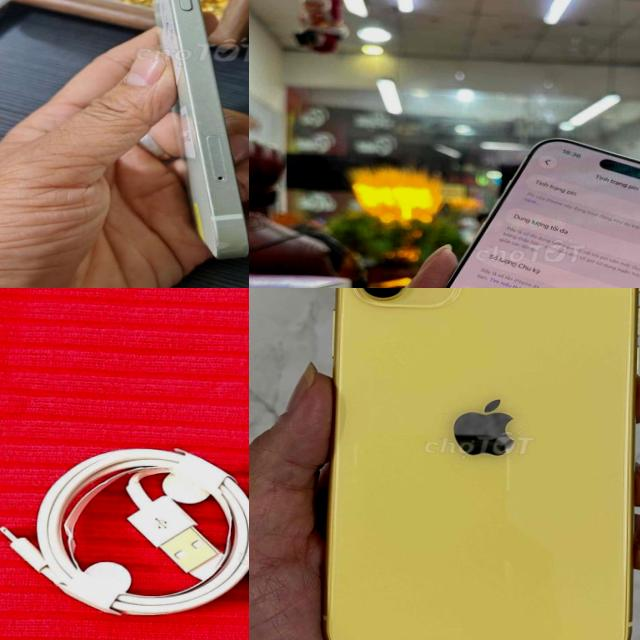gen_12_13: (118, 0, 249, 268)
gen_14: (323, 288, 640, 640)
gen_17: (367, 117, 640, 288)
scratch: (202, 232, 249, 258)
